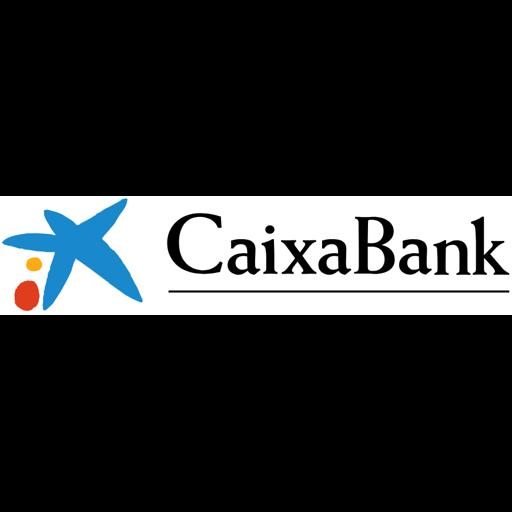CaixaBank: (0, 196, 512, 315)
